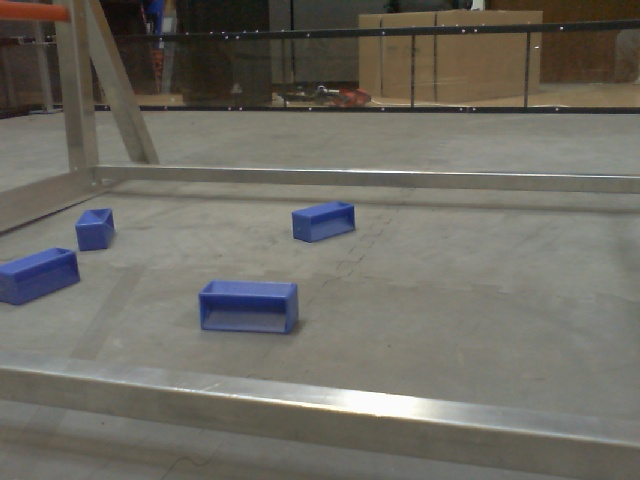BlueSample: (199, 275, 302, 339), (1, 247, 82, 308), (290, 196, 359, 249), (72, 208, 113, 250)
